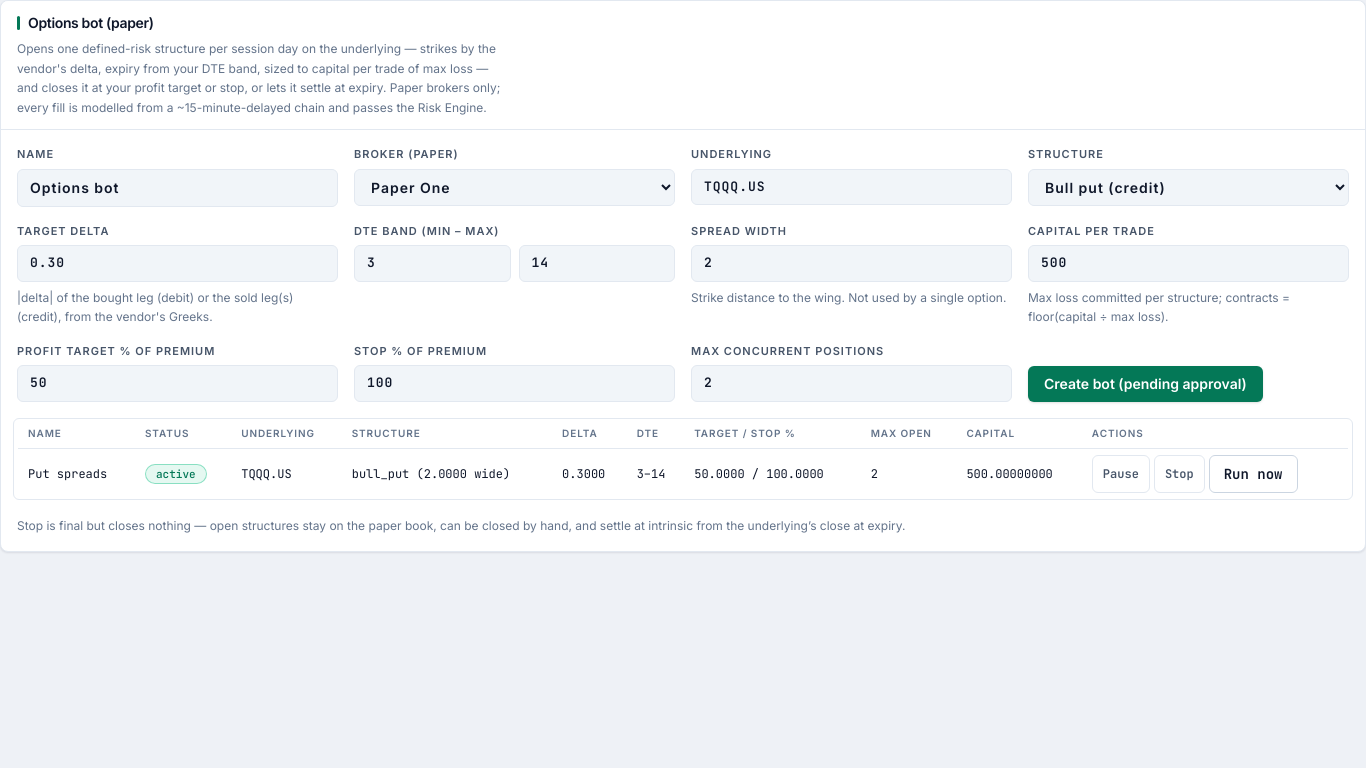
Test case: OptionsBotPanel › shows the selected bot's trades and learning summary
Click the button "Put spreads". click: (68, 474)
box: [28,466,107,482]
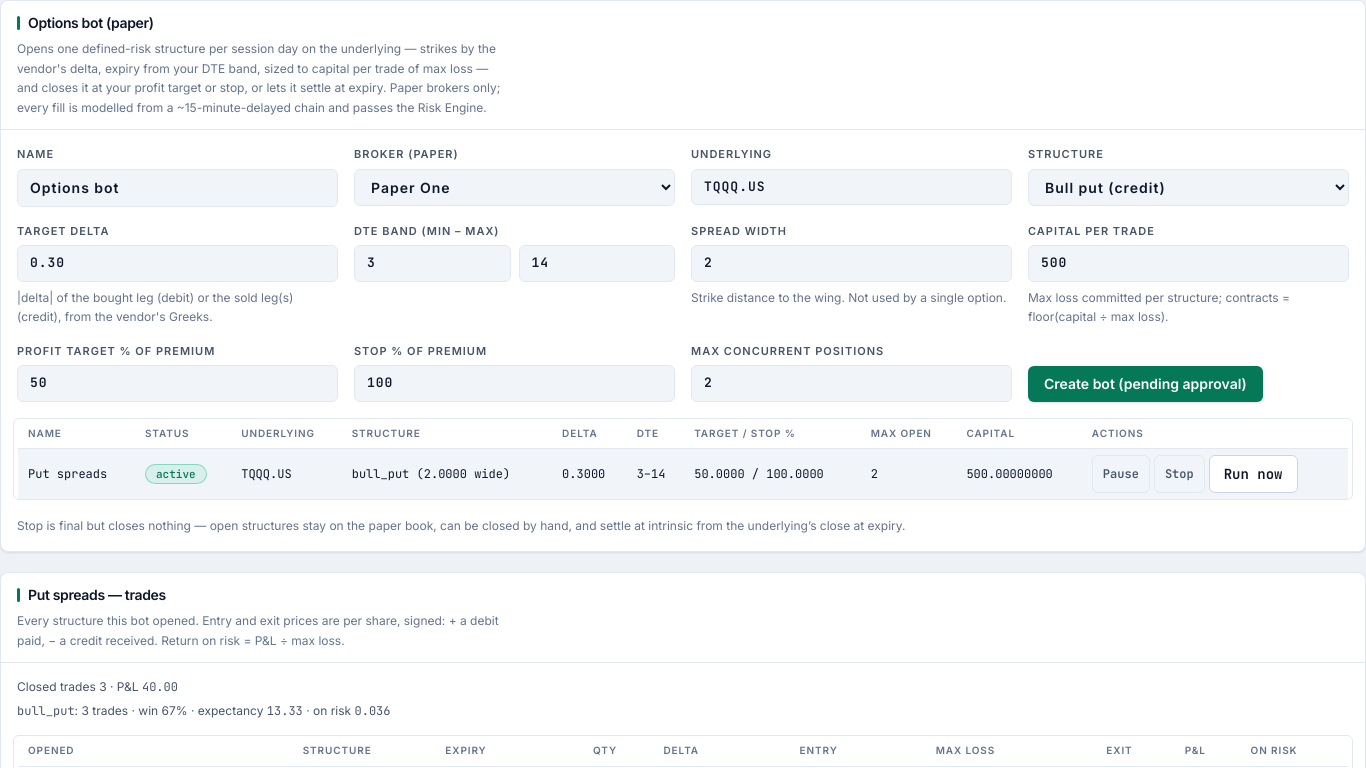
Check: the element with test id "ob-stats-row" shows "67%", box [162,704,188,718]
